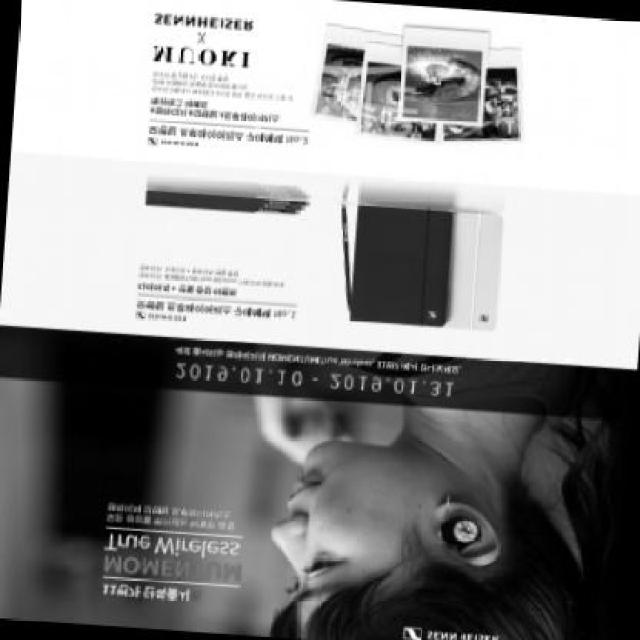earphone: (442, 510, 491, 554)
